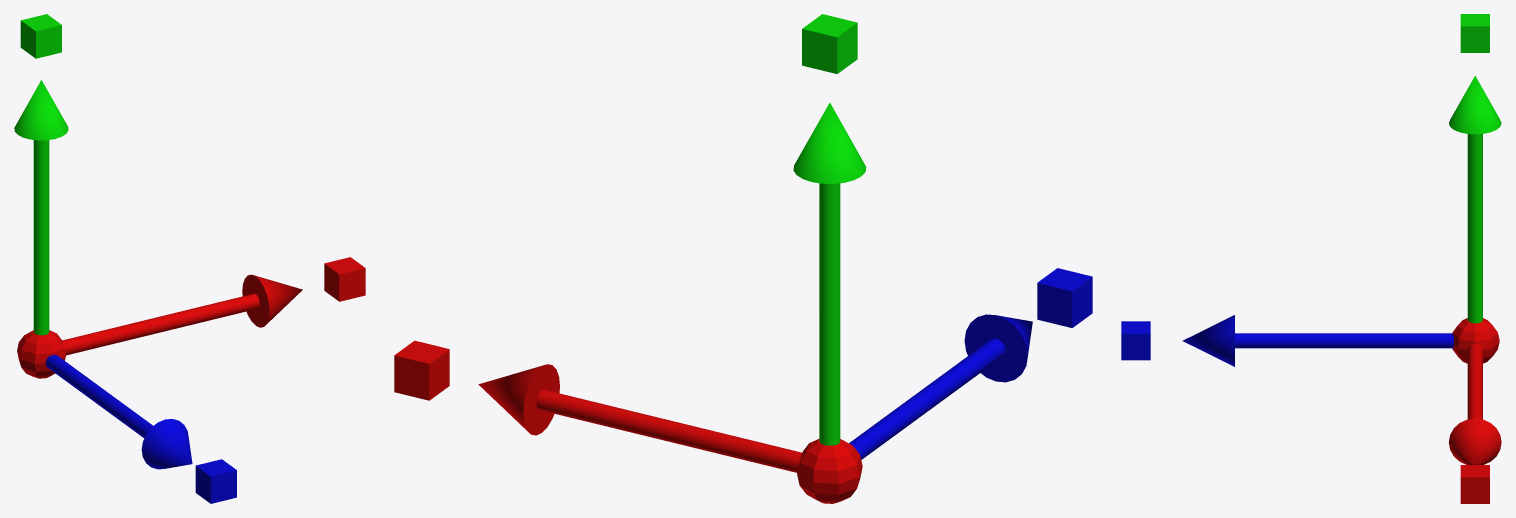
The model's file is Coordinate_Scale.fbx.
The picture shows the model from 3 angles, left to right: view 1: azimuth 30°, elevation 25°; view 2: azimuth 150°, elevation 25°; view 3: azimuth 270°, elevation 25°; orthographic projection. The views are drawn at different scales.
Parts seen in each view (by area): view 1: Coordinate_Scale; view 2: Coordinate_Scale; view 3: Coordinate_Scale.
Boxes of the visible parts, <box> form: Coordinate_Scale: <box>14,14,365,503</box>; Coordinate_Scale: <box>394,14,1092,503</box>; Coordinate_Scale: <box>1121,14,1501,503</box>.
Size of the model in its own units: 1.3 by 1.3 by 1.3.
